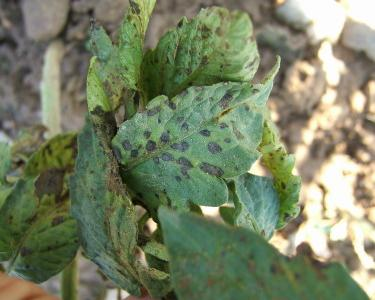Tomato leaf bacterial spot: (98, 58, 285, 194), (122, 4, 266, 132), (69, 109, 159, 295)
